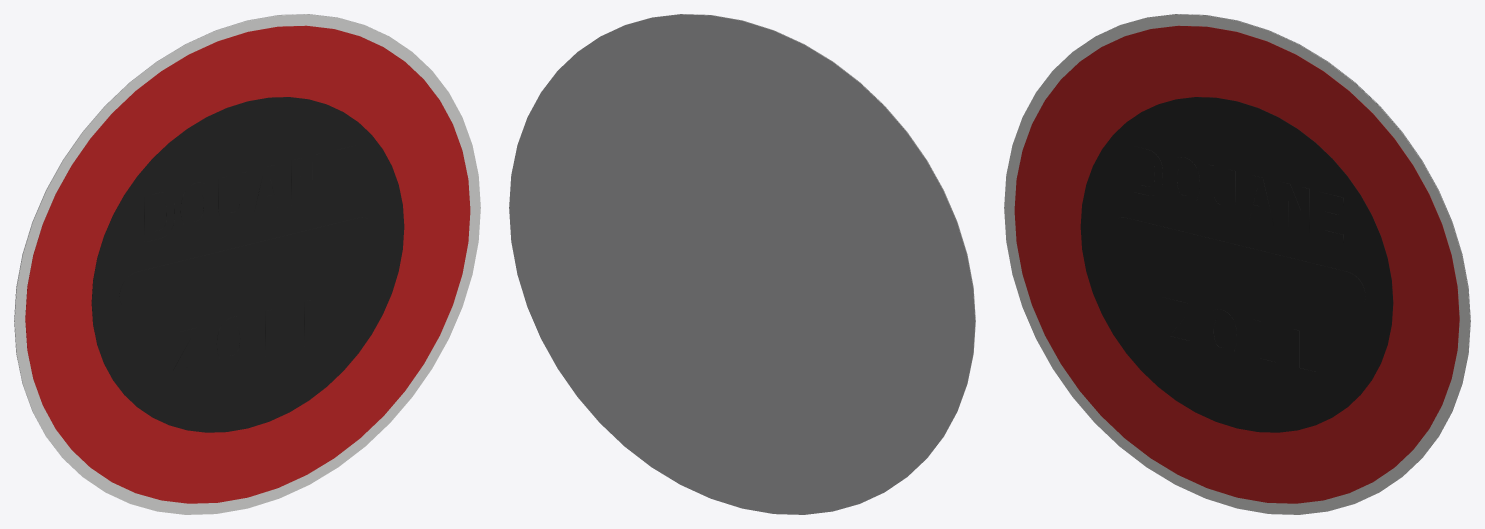
3 renders of one model, left to right at view 1: azimuth 30°, elevation 25°; view 2: azimuth 150°, elevation 25°; view 3: azimuth 330°, elevation 25°, orthographic.
Visible parts, largest first — view 1: B4_p01, B4_p02, B4_p00, B4_p03, B4_p05, B4_p07, B4_p10, B4_p04, B4_p09, B4_p11, B4_p08, B4_dos (+3 smaller); view 2: B4_dos, B4_p00; view 3: B4_p01, B4_p02, B4_p00, B4_p03, B4_p05, B4_p04, B4_p07, B4_p10, B4_p09, B4_p11, B4_p08, B4_dos (+3 smaller).
Part boxes in pixels (left/top/right/bottom): B4_p01: left=25, top=25, right=470, bottom=503; B4_p02: left=91, top=97, right=404, bottom=432; B4_p00: left=14, top=14, right=480, bottom=514; B4_p03: left=119, top=217, right=376, bottom=312; B4_p05: left=291, top=153, right=321, bottom=206; B4_p07: left=180, top=182, right=212, bottom=230; B4_p10: left=329, top=145, right=356, bottom=197; B4_p04: left=216, top=316, right=248, bottom=364; B4_p09: left=253, top=165, right=286, bottom=216; B4_p11: left=173, top=326, right=202, bottom=379; B4_p08: left=218, top=171, right=248, bottom=221; B4_dos: left=14, top=14, right=385, bottom=473; B4_dos: left=509, top=14, right=975, bottom=514; B4_p00: left=604, top=14, right=975, bottom=473; B4_p01: left=1014, top=25, right=1459, bottom=503; B4_p02: left=1080, top=97, right=1393, bottom=432; B4_p00: left=1004, top=14, right=1470, bottom=514; B4_p03: left=1108, top=217, right=1365, bottom=312; B4_p05: left=1279, top=181, right=1309, bottom=234; B4_p04: left=1205, top=309, right=1236, bottom=356; B4_p07: left=1168, top=157, right=1199, bottom=204; B4_p10: left=1316, top=191, right=1343, bottom=243; B4_p09: left=1240, top=175, right=1273, bottom=226; B4_p11: left=1159, top=296, right=1189, bottom=349; B4_p08: left=1206, top=164, right=1235, bottom=213; B4_dos: left=1099, top=14, right=1470, bottom=473.
Bounding box in the file's own units: 0.85 × 0.8498 × 0.0071.
